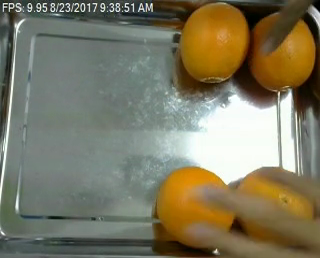Orange: (179, 1, 248, 83)
